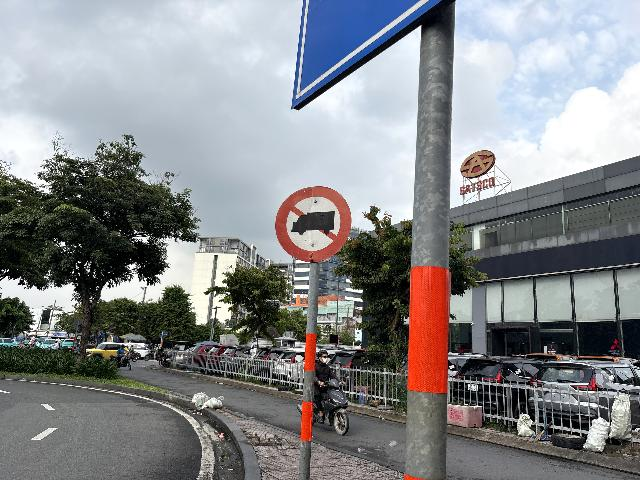cam-xe-tai: (275, 186, 352, 263)
